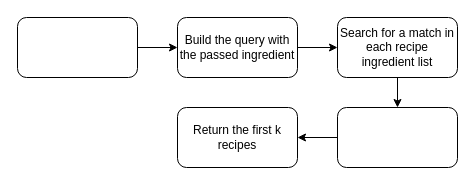
Image size: 475x185. Some labels were removed from this diagram. Here are the shapes that lost their labels. From the top down, the centre of each, then its label:
pixel 77 47: Extracted ingredient name
pixel 397 137: Retrieve the recipes' full information that have a matching ingredient
